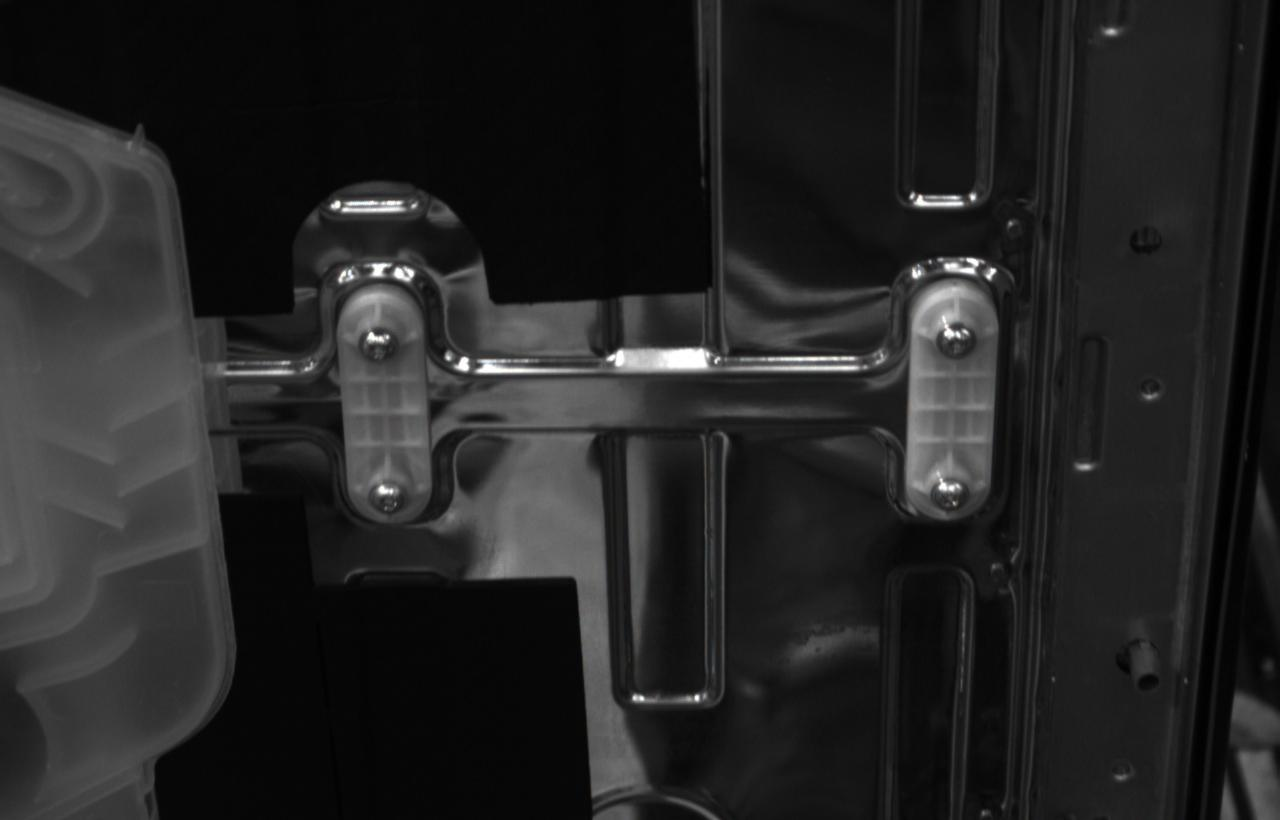vida-ok: (936, 322, 976, 360), (359, 326, 399, 363), (931, 478, 970, 512), (369, 482, 405, 514)
